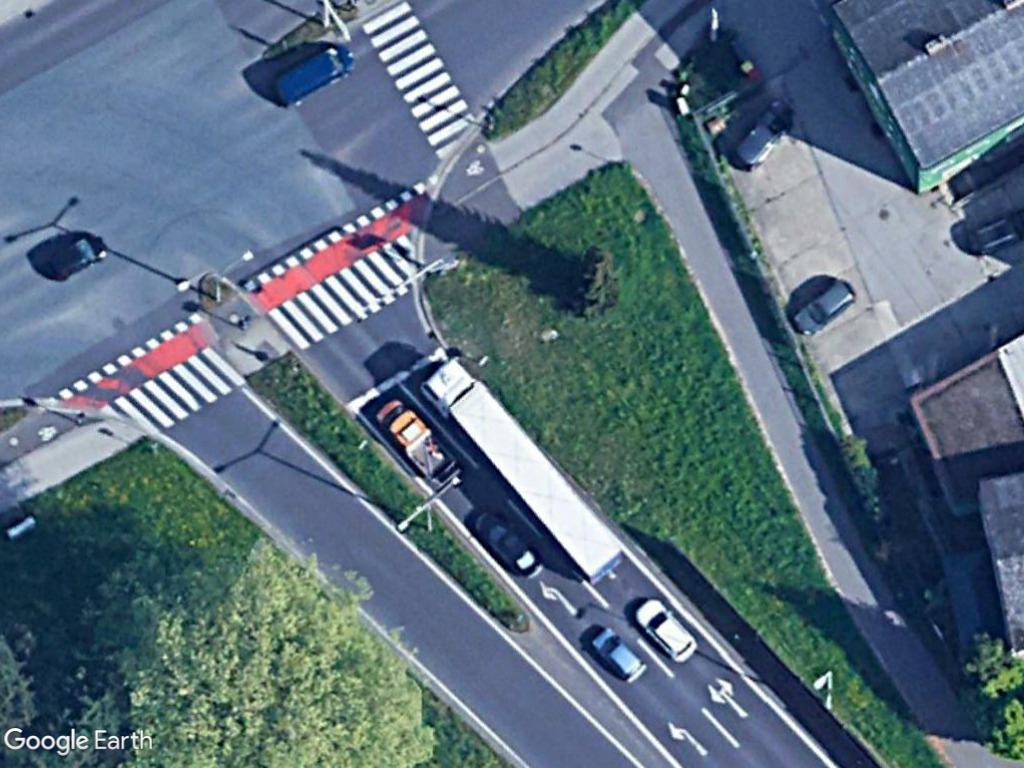car: (470, 504, 545, 581), (633, 596, 699, 664), (790, 280, 857, 338), (588, 625, 648, 688), (43, 232, 112, 284)
longvehicle: (424, 355, 634, 589)
van: (266, 40, 360, 111)
